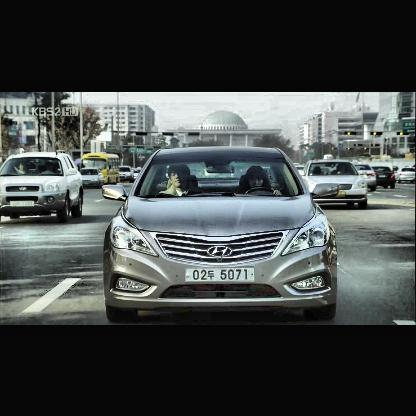Hyundai Azera Sedan 2012: (101, 145, 339, 323)
